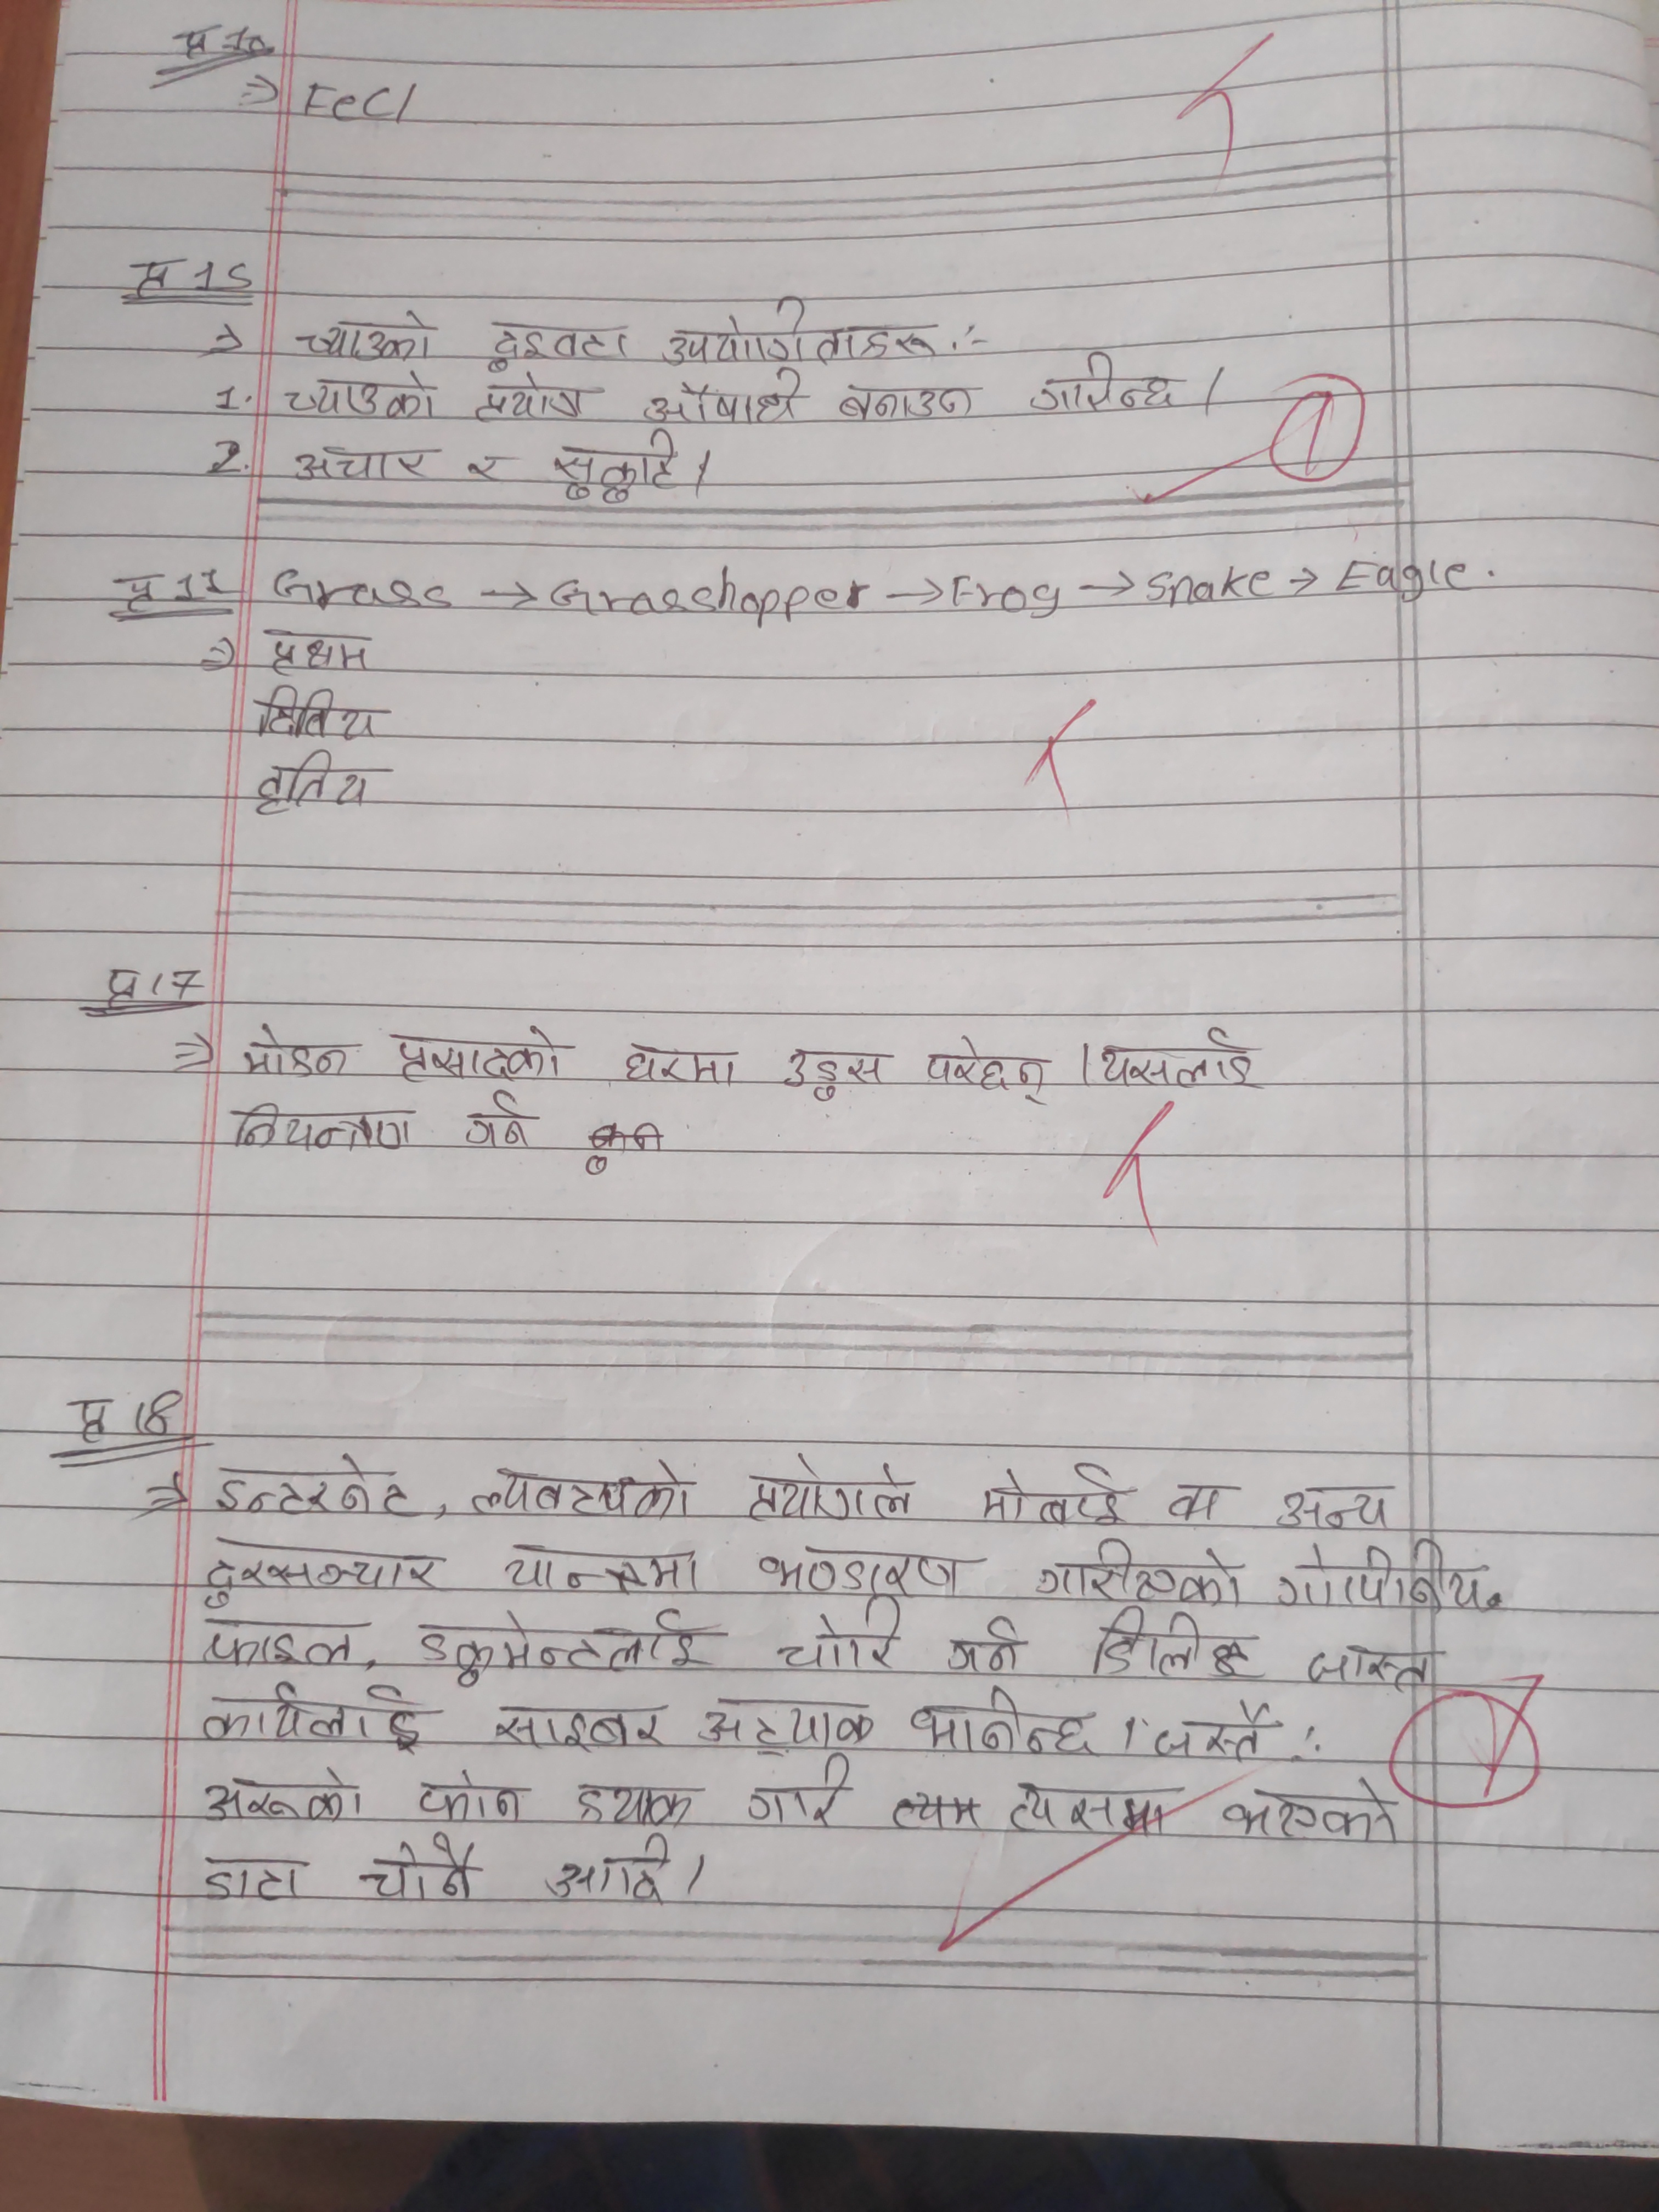text: (420, 1609, 721, 1688), (660, 289, 943, 364), (199, 1531, 450, 1608), (200, 1681, 436, 1754), (1033, 1538, 1249, 1608), (1277, 1543, 1490, 1613), (214, 1453, 425, 1522), (913, 1686, 1107, 1761), (472, 1456, 695, 1521), (756, 1538, 983, 1597), (1091, 1606, 1265, 1683), (1220, 1777, 1405, 1848), (748, 1451, 918, 1526), (389, 1022, 572, 1087), (498, 1540, 702, 1597), (699, 1688, 884, 1750), (1096, 1022, 1260, 1090), (1002, 1780, 1183, 1839), (491, 1698, 674, 1756), (775, 1595, 904, 1676), (1026, 350, 1188, 413), (547, 427, 680, 503), (225, 1104, 420, 1155), (924, 1033, 1060, 1104), (202, 1768, 366, 1827), (981, 1463, 1134, 1526), (640, 364, 805, 421), (547, 1834, 676, 1905), (742, 1754, 861, 1831), (1152, 1695, 1288, 1761), (359, 1832, 486, 1902), (477, 319, 636, 374), (200, 1616, 364, 1669), (256, 751, 380, 817), (281, 373, 443, 421), (239, 1019, 361, 1083), (254, 686, 392, 742), (291, 310, 436, 361), (258, 622, 380, 679), (1309, 1639, 1448, 1688), (568, 1778, 704, 1827), (476, 371, 598, 425), (291, 441, 441, 484), (1276, 1479, 1405, 1529), (416, 1771, 533, 1827), (193, 1850, 317, 1902), (784, 1045, 894, 1103), (622, 1038, 744, 1089), (941, 1613, 1030, 1677), (835, 380, 978, 418), (462, 1090, 538, 1150), (1164, 1479, 1234, 1524), (469, 449, 519, 489)
